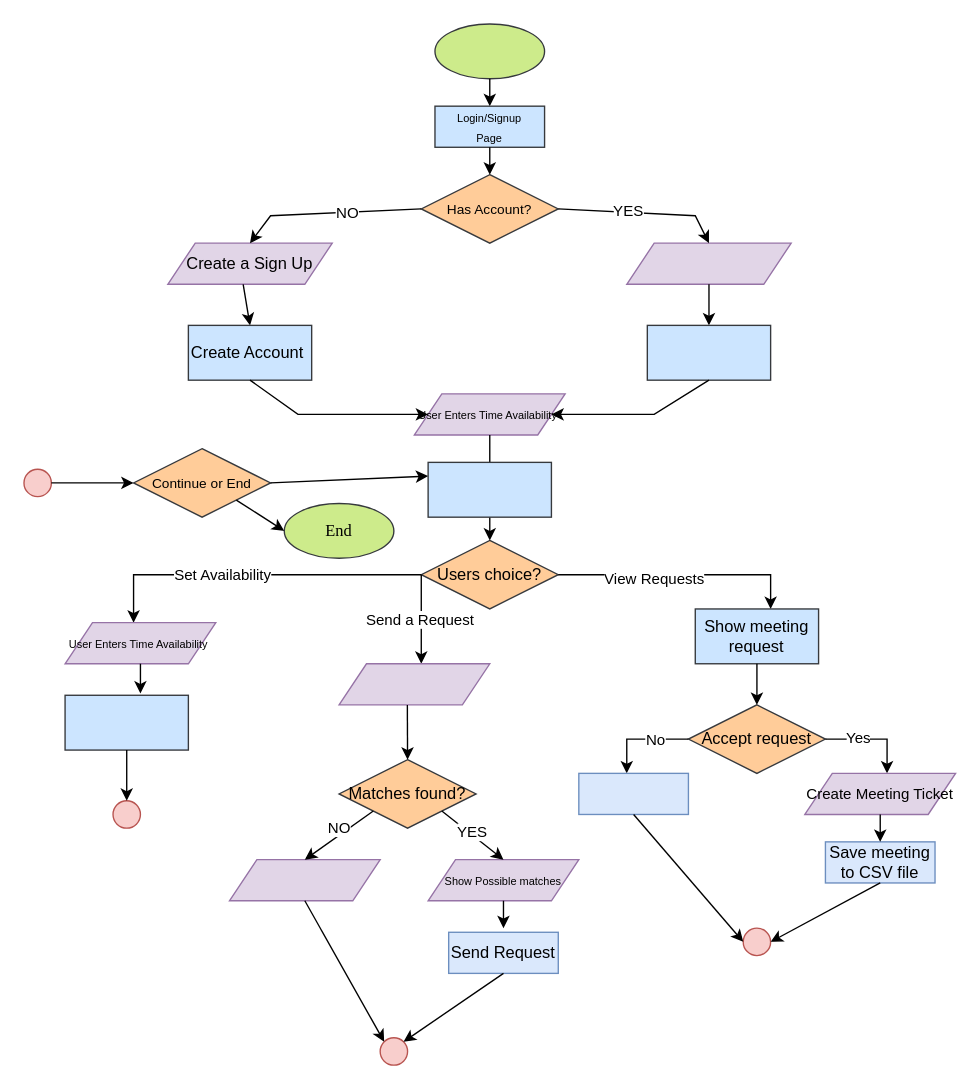
The diagram is 980 pixels wide and 1089 high, and some of its shapes have lost their labels. Each missing label, with the centre of its shape:
Decline request: point (632, 793)
Determine account type: point (708, 352)
Display No Matches: point (304, 879)
Enter Login: point (708, 263)
Main Menu: point (489, 489)
Open and view others profiles: point (414, 683)
Save Availability: point (126, 722)
Start App: point (489, 51)
